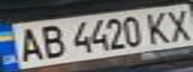0: (121, 12, 145, 48)
2: (106, 15, 127, 51)
4: (66, 18, 93, 55), (87, 16, 112, 53)
A: (9, 25, 45, 63)
B: (33, 21, 69, 60)
K: (142, 9, 175, 45)
X: (160, 6, 193, 43)
